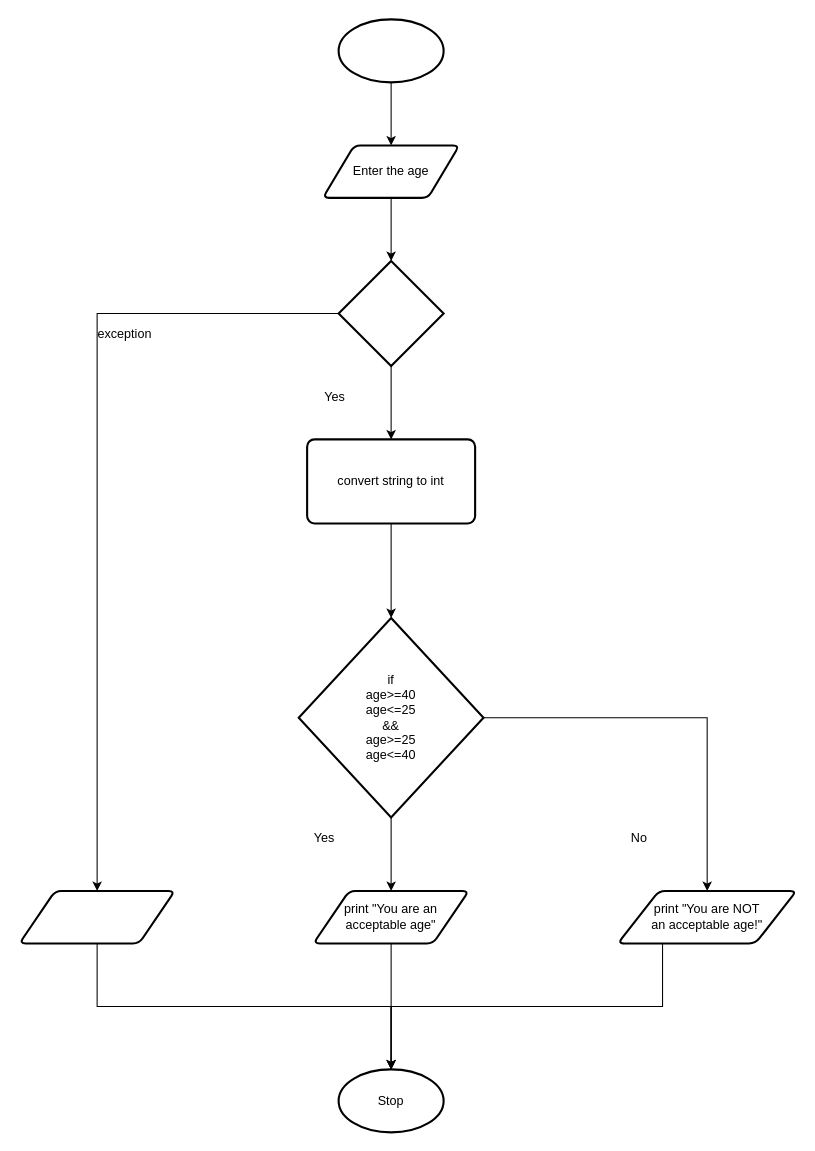
The diagram is 815 pixels wide and 1151 high, and some of its shapes have lost their labels. Each missing label, with the centre of its shape:
"A, is not valid input" belongs at [96,916].
"Start" belongs at [390,50].
"try" belongs at [390,312].
